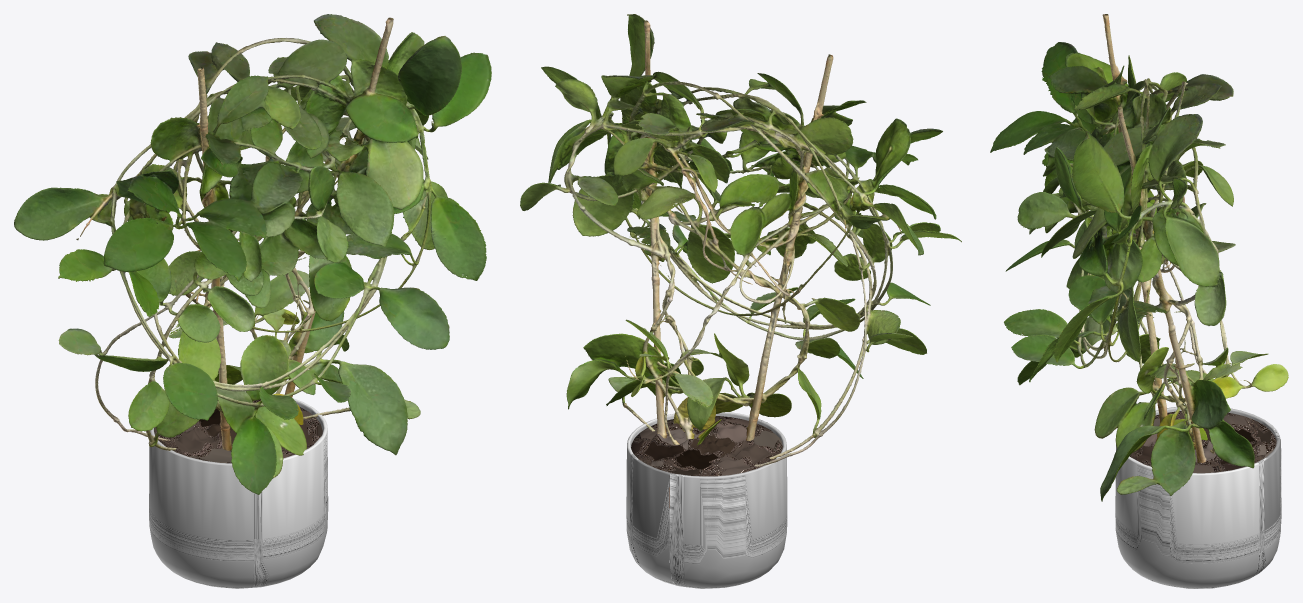
Rendered from hoya_austrialCompressed.glb.
3 renders of one model, left to right at view 1: azimuth 30°, elevation 25°; view 2: azimuth 150°, elevation 25°; view 3: azimuth 270°, elevation 25°, orthographic. The views are drawn at different scales.
Visible parts, largest first — view 1: Object_34, Object_5.001, Object_6.001; view 2: Object_34, Object_5.001, Object_6.001; view 3: Object_34, Object_5.001, Object_6.001.
Part boxes in pixels (left/top/right/bottom): Object_34: left=14, top=14, right=491, bottom=494; Object_5.001: left=149, top=391, right=328, bottom=588; Object_6.001: left=154, top=399, right=322, bottom=463; Object_34: left=520, top=14, right=961, bottom=507; Object_5.001: left=626, top=412, right=787, bottom=588; Object_6.001: left=631, top=416, right=782, bottom=476; Object_34: left=990, top=14, right=1288, bottom=501; Object_5.001: left=1115, top=406, right=1281, bottom=588; Object_6.001: left=1129, top=411, right=1276, bottom=473.
Size of the model in its own units: 8.07 by 9.54 by 5.01.
Materials: 3 (3 with a texture image).
